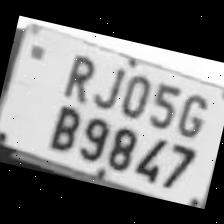0: (115, 62, 156, 119)
4: (130, 126, 171, 184)
5: (142, 72, 185, 131)
7: (156, 134, 196, 192)
8: (102, 117, 140, 173)
9: (75, 110, 112, 164)
B: (44, 97, 84, 152)
G: (170, 82, 213, 140)
J: (89, 52, 127, 110)
R: (58, 45, 100, 102)
